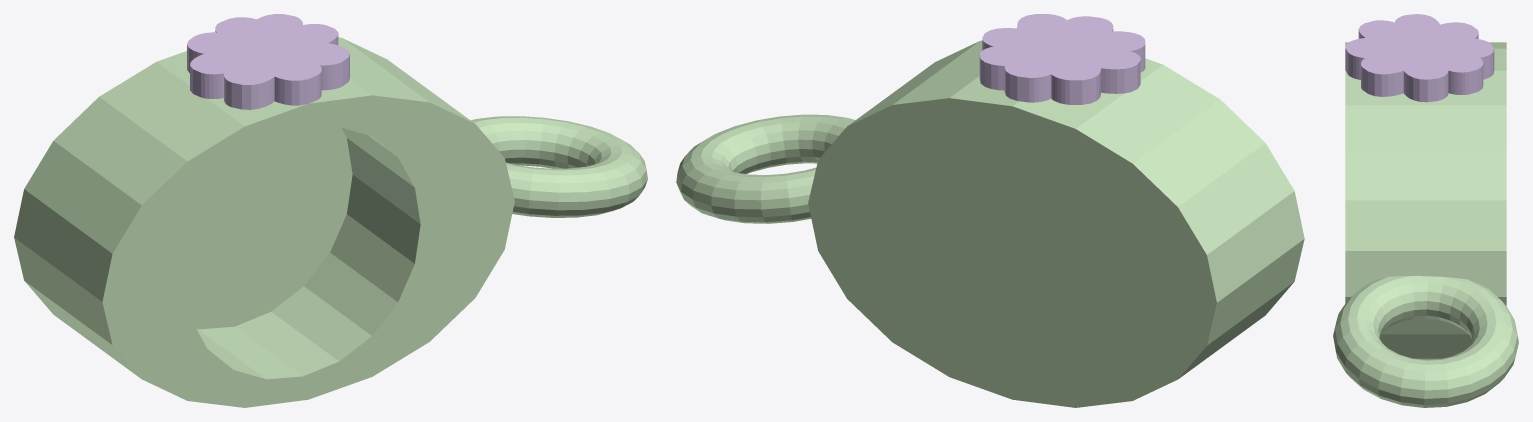
The model's file is tinker.obj.
3 renders of one model, left to right at view 1: azimuth 30°, elevation 25°; view 2: azimuth 150°, elevation 25°; view 3: azimuth 270°, elevation 25°, orthographic. The views are drawn at different scales.
Parts seen in each view (by area): view 1: group_0_13165757, group_0_13877221; view 2: group_0_13165757, group_0_13877221; view 3: group_0_13165757, group_0_13877221.
Part boxes in pixels (box(x1,y1,x2,y2)): group_0_13165757: box(14, 37, 647, 407); group_0_13877221: box(187, 14, 349, 109); group_0_13165757: box(676, 40, 1304, 407); group_0_13877221: box(979, 14, 1145, 104); group_0_13165757: box(1333, 42, 1518, 407); group_0_13877221: box(1345, 14, 1494, 102).
Size of the model in its own units: 49 by 26 by 15.
